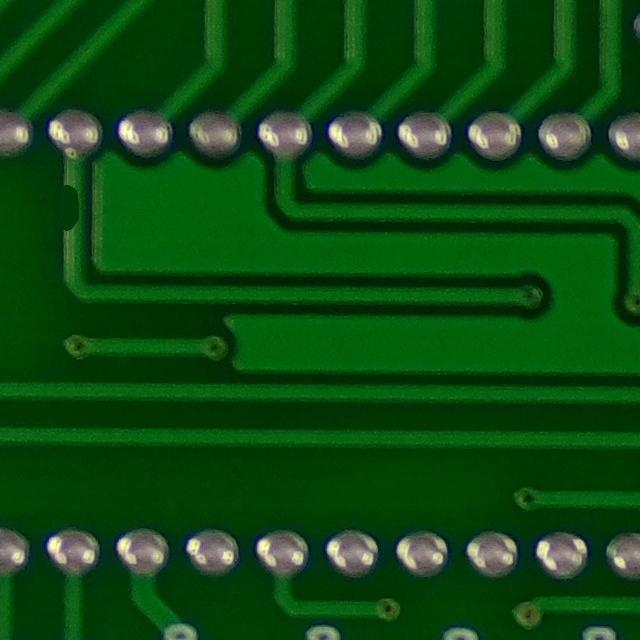mouse_bite: (40, 173, 99, 244)
